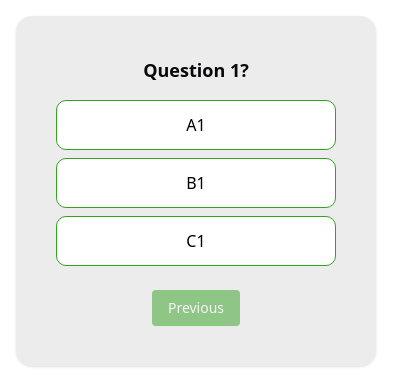
Test: Survey component › selecting an option moves to next question and resets selection
The width and height of the screenshot is (393, 384).
Click the text "B1": (196, 183) [56, 158, 336, 208]
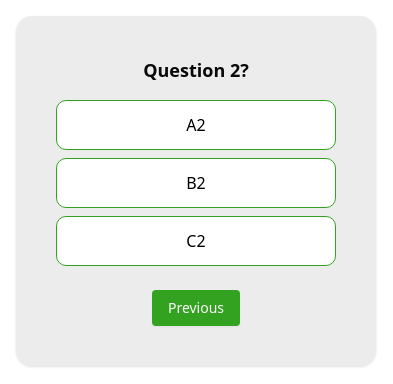
Expected: the text "Question 2?" is shown, [143, 58, 249, 82]
Result: the button "Previous" is enabled at [152, 290, 240, 326]
